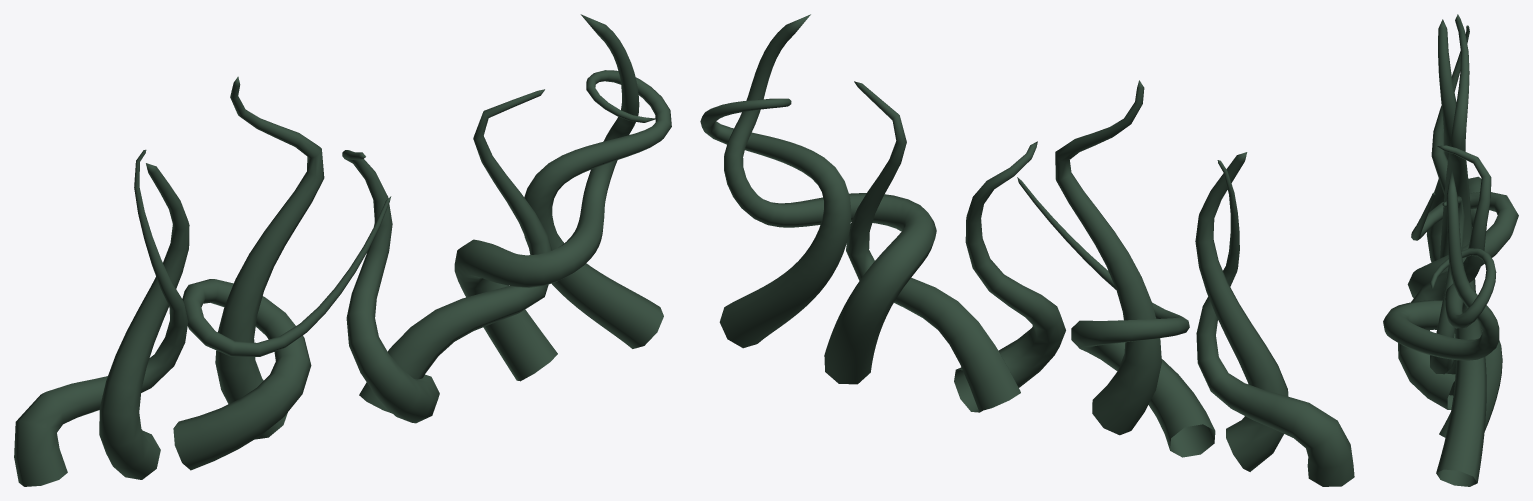
File: Enredaderasjuntas.fbx
The picture shows the model from 3 angles, left to right: view 1: azimuth 30°, elevation 25°; view 2: azimuth 150°, elevation 25°; view 3: azimuth 270°, elevation 25°; orthographic projection. The views are drawn at different scales.
Visible parts, largest first — view 1: M_Enredadera11, M_Enredadera15, M_Enredadera16, M_Enredadera10, M_Enredadera14, M_Enredadera12, M_Enredadera9, M_Enredadera13; view 2: M_Enredadera15, M_Enredadera16, M_Enredadera12, M_Enredadera14, M_Enredadera9, M_Enredadera11, M_Enredadera10, M_Enredadera13; view 3: M_Enredadera15, M_Enredadera16, M_Enredadera13, M_Enredadera12, M_Enredadera11, M_Enredadera10, M_Enredadera9, M_Enredadera14.
Part boxes in pixels (bbox=[...]): M_Enredadera11: bbox=[173, 196, 391, 470]; M_Enredadera15: bbox=[454, 14, 639, 381]; M_Enredadera16: bbox=[524, 70, 671, 348]; M_Enredadera10: bbox=[99, 163, 189, 479]; M_Enredadera14: bbox=[359, 89, 552, 413]; M_Enredadera12: bbox=[215, 76, 324, 439]; M_Enredadera9: bbox=[14, 149, 188, 486]; M_Enredadera13: bbox=[342, 150, 439, 423]; M_Enredadera15: bbox=[724, 14, 936, 384]; M_Enredadera16: bbox=[700, 98, 851, 348]; M_Enredadera12: bbox=[1055, 80, 1161, 435]; M_Enredadera14: bbox=[846, 81, 1020, 411]; M_Enredadera9: bbox=[1196, 160, 1354, 486]; M_Enredadera11: bbox=[1017, 177, 1215, 457]; M_Enredadera10: bbox=[1195, 152, 1288, 471]; M_Enredadera13: bbox=[954, 141, 1065, 412]; M_Enredadera15: bbox=[1383, 169, 1502, 437]; M_Enredadera16: bbox=[1430, 248, 1496, 486]; M_Enredadera13: bbox=[1398, 145, 1491, 409]; M_Enredadera12: bbox=[1440, 14, 1475, 292]; M_Enredadera11: bbox=[1407, 192, 1518, 298]; M_Enredadera10: bbox=[1426, 19, 1456, 262]; M_Enredadera9: bbox=[1431, 25, 1481, 228]; M_Enredadera14: bbox=[1430, 196, 1464, 395].
Size of the model in its own units: 10.69 by 5.97 by 2.27.
